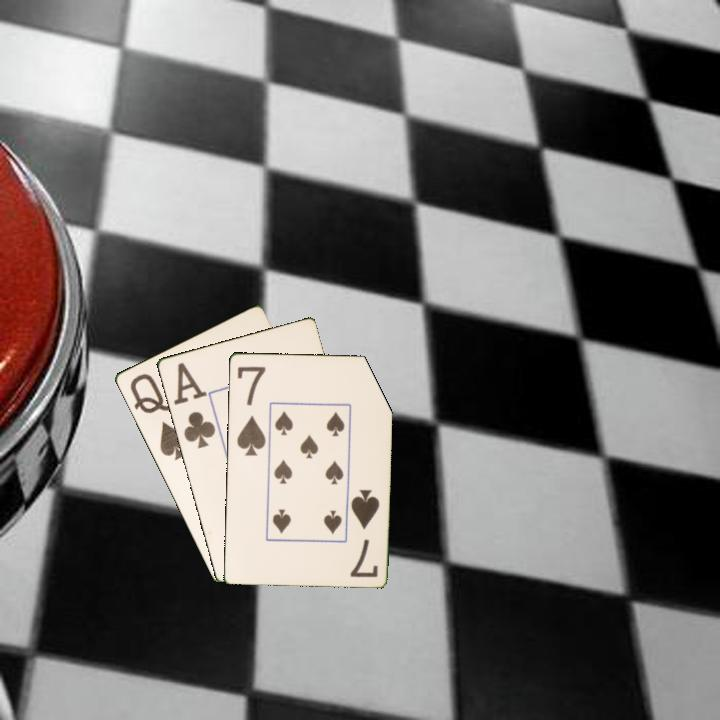7s: (346, 485, 382, 580), (233, 362, 268, 459)
Ac: (169, 359, 218, 451)
Qs: (126, 370, 191, 463)
